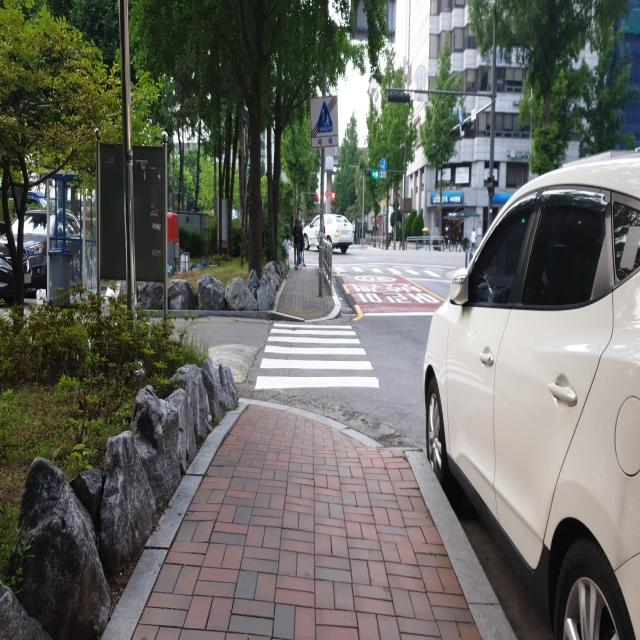횡단보도: (254, 320, 380, 391), (335, 260, 454, 282)
